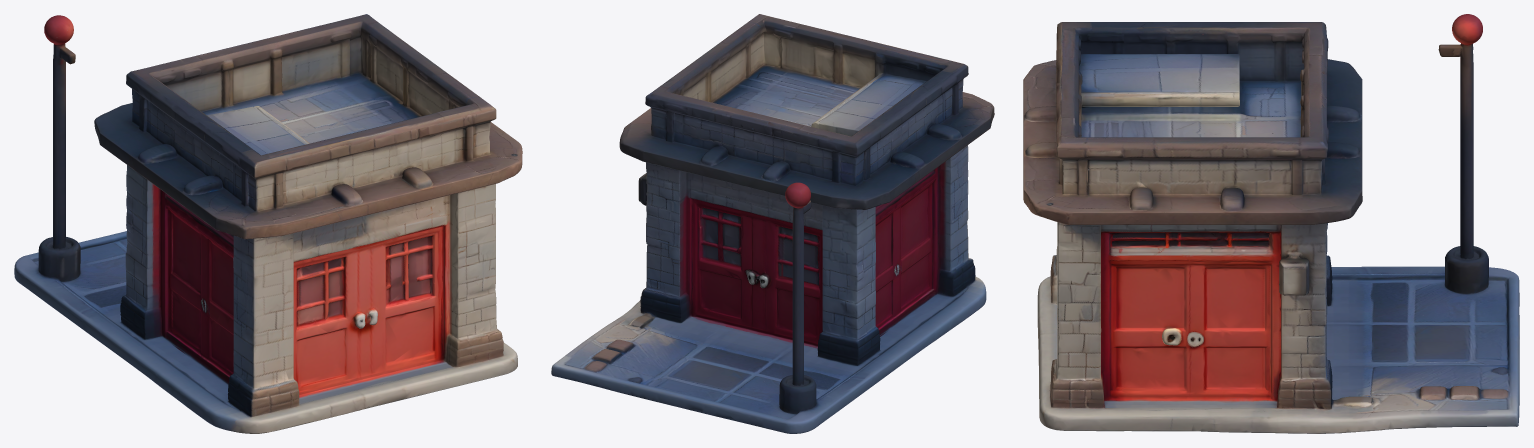
File: building-fire-station.glb
3 views of the same model, side by side, from view 1: azimuth 30°, elevation 25°; view 2: azimuth 150°, elevation 25°; view 3: azimuth 270°, elevation 25° (orthographic). The views are drawn at different scales.
Visible parts, largest first — view 1: tripo_node_e975a6f4-1532-4c3d-8e9a-367106359c97; view 2: tripo_node_e975a6f4-1532-4c3d-8e9a-367106359c97; view 3: tripo_node_e975a6f4-1532-4c3d-8e9a-367106359c97.
Boxes of the visible parts, x1=… form: tripo_node_e975a6f4-1532-4c3d-8e9a-367106359c97: x1=14, y1=14, x2=522, y2=433; tripo_node_e975a6f4-1532-4c3d-8e9a-367106359c97: x1=551, y1=14, x2=994, y2=433; tripo_node_e975a6f4-1532-4c3d-8e9a-367106359c97: x1=1023, y1=14, x2=1519, y2=433.
Bounding box in the file's own units: 8.26 × 7 × 11.1.
1 material, 1 textured.
